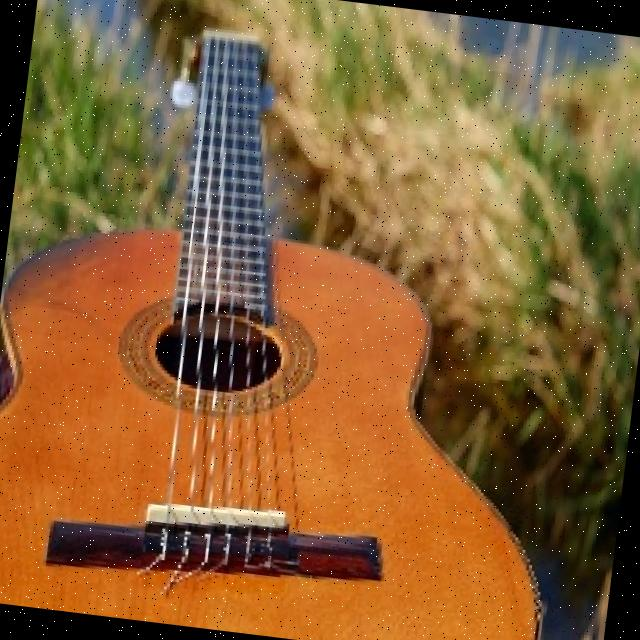guitar: (0, 3, 615, 640)
